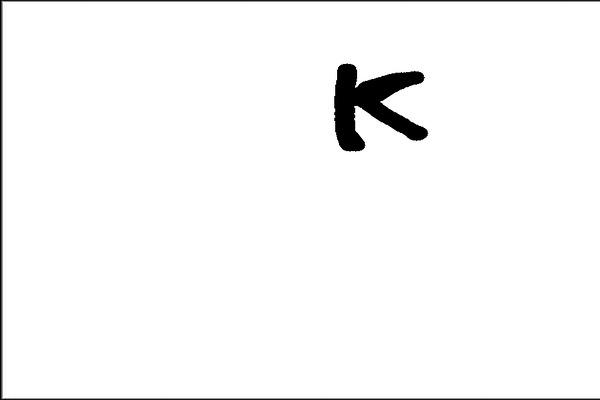K: (326, 52, 438, 153)
